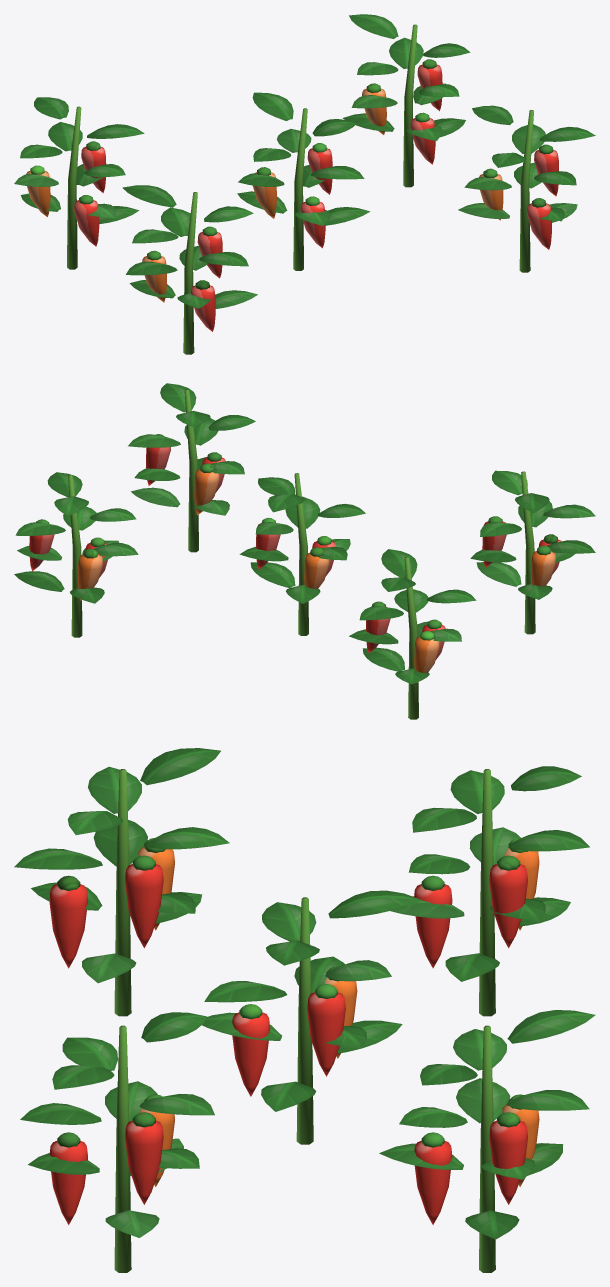
The model's file is crop_pepper.glb.
3 views of the same model, one above another, from view 1: azimuth 30°, elevation 25°; view 2: azimuth 150°, elevation 25°; view 3: azimuth 270°, elevation 25° (orthographic). The views are drawn at different scales.
Parts seen in each view (by area): view 1: P0_leaf, P2_leaf, P4_leaf, P1_leaf, P3_leaf, P3_stem, P1_stem, P4_stem, P2_stem, P0_stem, P3_fruit2, P1_fruit2 (+13 smaller); view 2: P0_leaf, P2_leaf, P3_leaf, P1_leaf, P4_leaf, P1_stem, P4_stem, P3_stem, P0_stem, P2_stem, P1_fruit1, P3_fruit1 (+8 smaller); view 3: P4_leaf, P0_leaf, P2_leaf, P1_leaf, P3_leaf, P3_stem, P0_stem, P1_stem, P2_stem, P4_stem, P1_fruit0, P0_fruit0 (+13 smaller).
Boxes of the visible parts, left/top/right/bottom form: P0_leaf: left=122, top=185, right=257, bottom=308; P2_leaf: left=237, top=92, right=370, bottom=225; P4_leaf: left=342, top=14, right=470, bottom=140; P1_leaf: left=458, top=105, right=595, bottom=222; P3_leaf: left=14, top=97, right=144, bottom=223; P3_stem: left=67, top=106, right=81, bottom=269; P1_stem: left=519, top=110, right=533, bottom=272; P4_stem: left=403, top=24, right=417, bottom=187; P2_stem: left=293, top=108, right=307, bottom=270; P0_stem: left=183, top=192, right=197, bottom=354; P3_fruit2: left=74, top=195, right=99, bottom=246; P1_fruit2: left=527, top=198, right=551, bottom=249; P0_leaf: left=470, top=470, right=595, bottom=599; P2_leaf: left=239, top=477, right=365, bottom=603; P3_leaf: left=349, top=549, right=476, bottom=684; P1_leaf: left=128, top=383, right=255, bottom=515; P4_leaf: left=14, top=472, right=138, bottom=603; P1_stem: left=184, top=389, right=198, bottom=552; P4_stem: left=68, top=474, right=82, bottom=637; P3_stem: left=404, top=557, right=418, bottom=719; P0_stem: left=521, top=471, right=535, bottom=634; P2_stem: left=294, top=473, right=308, bottom=635; P1_fruit1: left=194, top=463, right=219, bottom=515; P3_fruit1: left=414, top=631, right=439, bottom=682; P4_leaf: left=379, top=1010, right=595, bottom=1239; P0_leaf: left=14, top=748, right=229, bottom=983; P2_leaf: left=202, top=890, right=422, bottom=1111; P1_leaf: left=20, top=1012, right=214, bottom=1237; P3_leaf: left=390, top=766, right=589, bottom=981; P3_stem: left=479, top=769, right=495, bottom=1016; P0_stem: left=114, top=769, right=131, bottom=1016; P1_stem: left=114, top=1025, right=131, bottom=1272; P2_stem: left=296, top=897, right=313, bottom=1144; P4_stem: left=479, top=1025, right=495, bottom=1272; P1_fruit0: left=125, top=1112, right=163, bottom=1204; P0_fruit0: left=125, top=855, right=163, bottom=948.
Bounding box in the file's own units: 1.37 × 0.4505 × 0.9584.
Materials: 1 (1 with a texture image).
